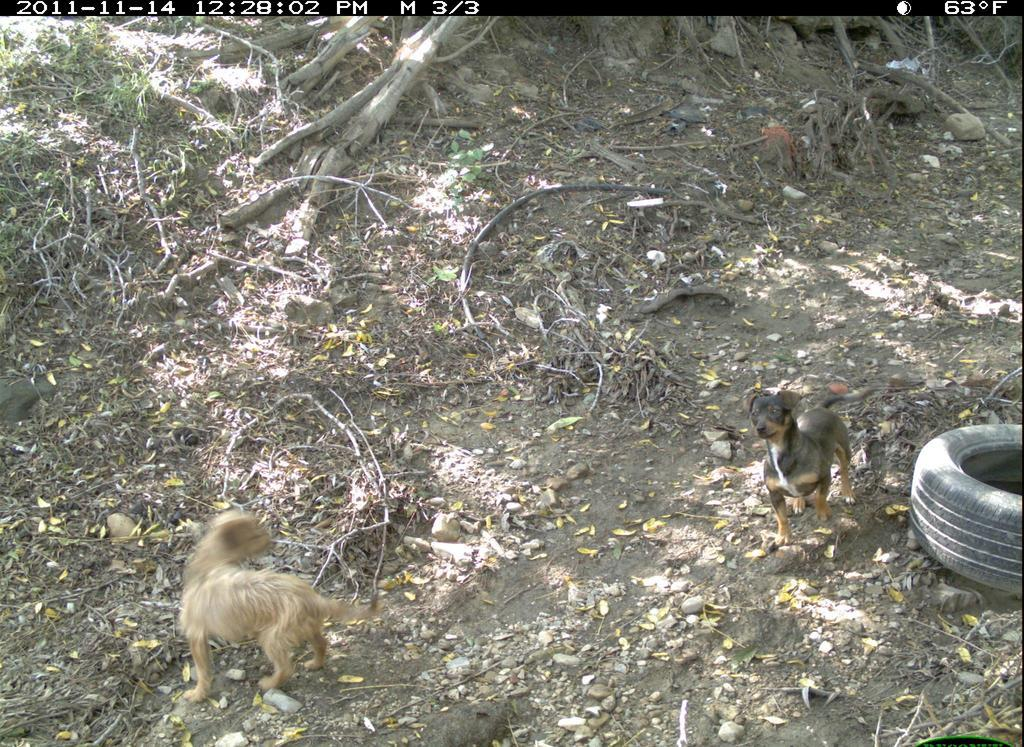dog: (169, 511, 388, 710), (744, 383, 879, 552)
